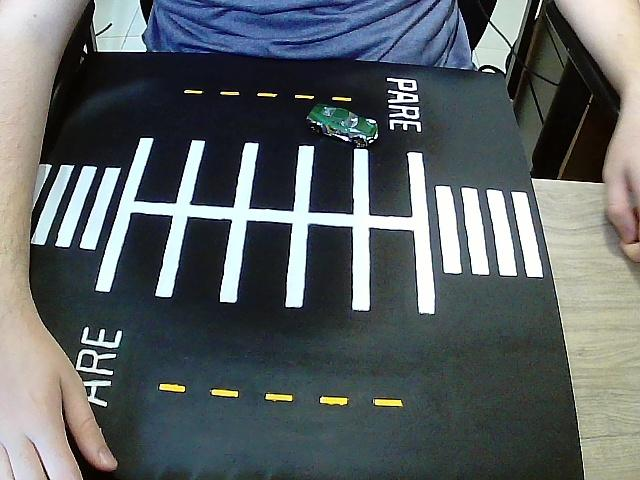Carro: (304, 100, 383, 148)
